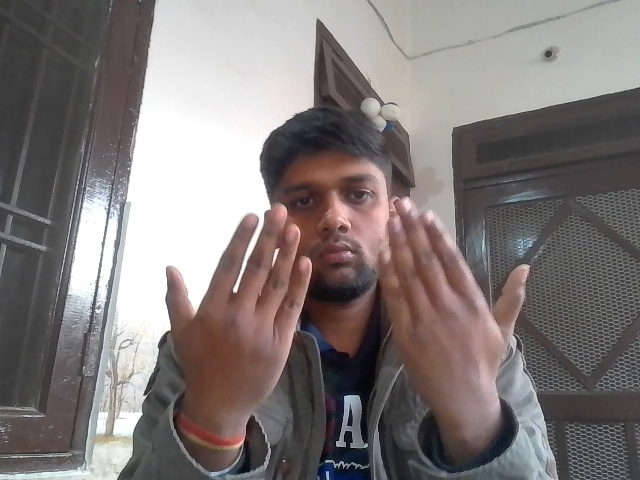ThankYou: (153, 196, 555, 419)
